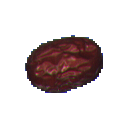gd: (18, 24, 125, 103)
